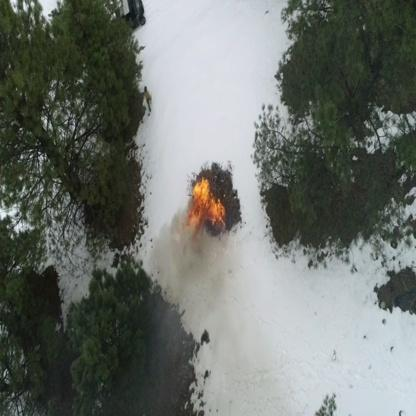Fire: (186, 177, 211, 240), (203, 197, 227, 226)
